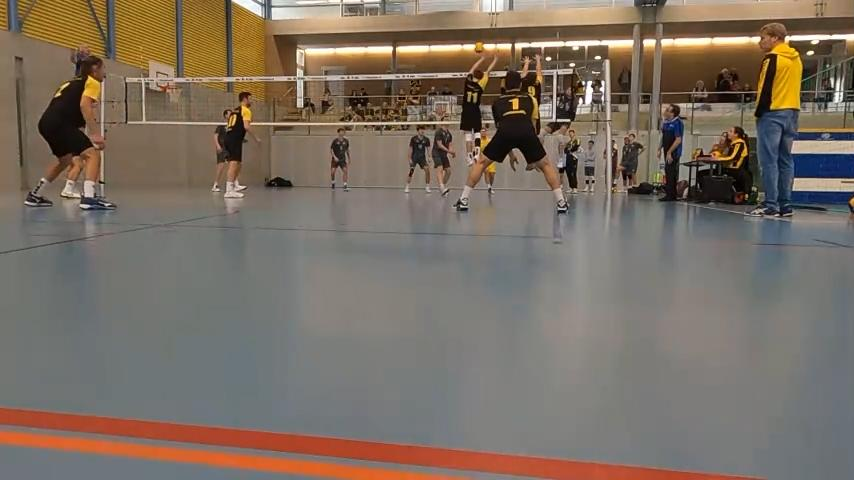Attack: (523, 72, 583, 176)
Block: (462, 51, 498, 170), (519, 55, 544, 132)
Player: (455, 71, 567, 212), (24, 56, 115, 209), (224, 91, 259, 198), (431, 124, 455, 196), (405, 125, 430, 192), (212, 109, 230, 192), (330, 128, 349, 190), (60, 157, 84, 199), (480, 125, 489, 156)
ball: (474, 40, 484, 54)
